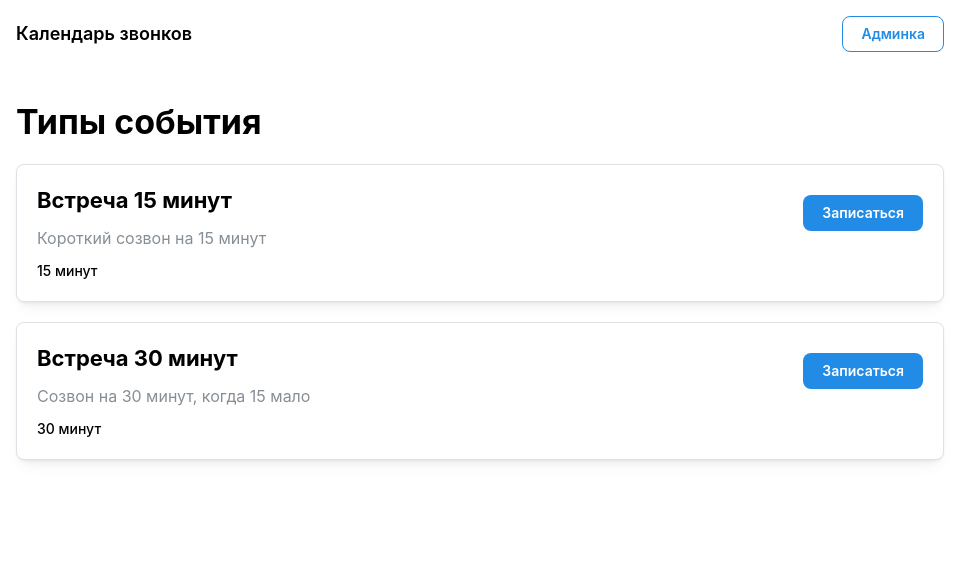
Test: клик по карточке ведёт на /book/:slug
Click the link "Встреча 15 минут".
click(134, 200)  # box [16,164,944,302]
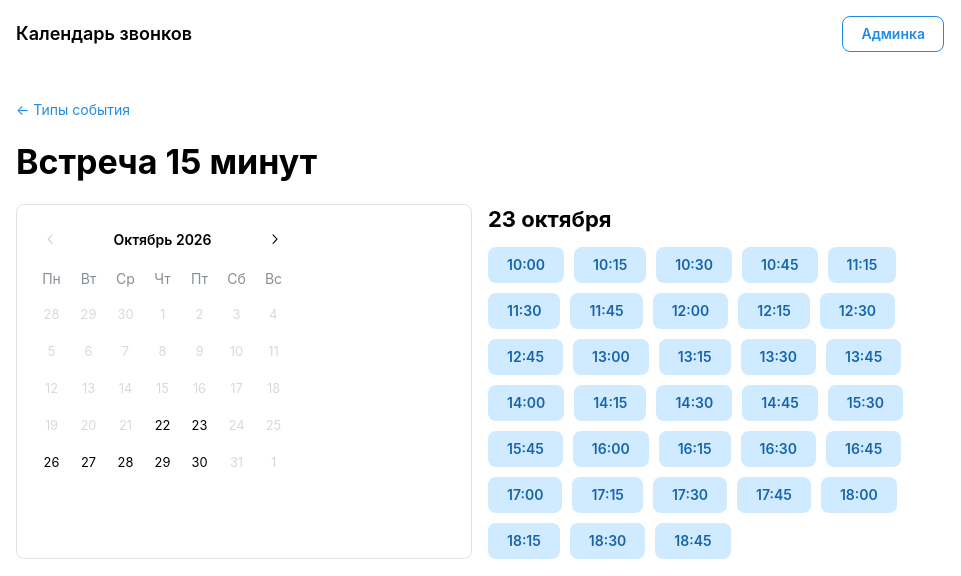
Now the heading "Встреча 15 минут" is shown, box [16,141,317,182]
